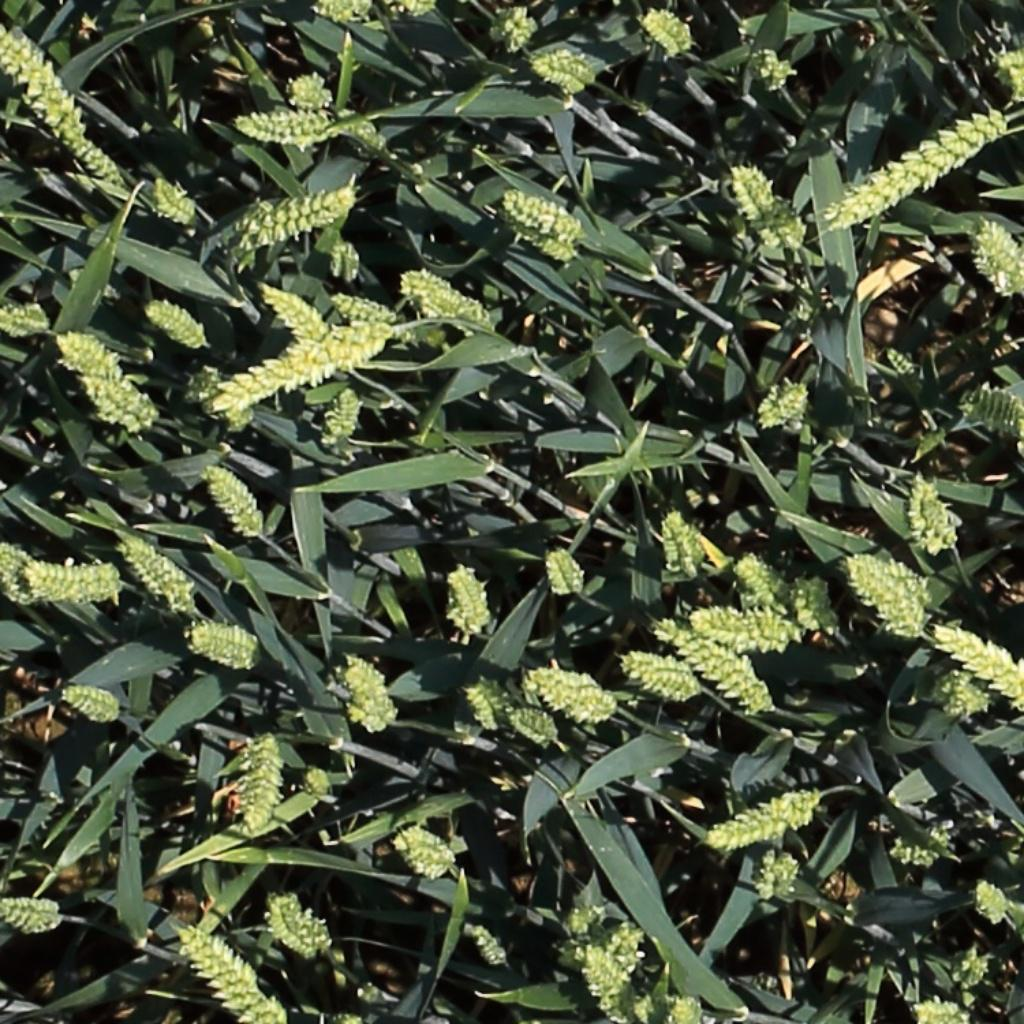0-0: (0, 17, 121, 188), (830, 111, 1009, 223), (174, 922, 286, 1024), (656, 622, 772, 714), (845, 539, 935, 630), (11, 20, 92, 119), (935, 628, 1024, 711), (212, 345, 309, 416), (520, 652, 617, 722), (709, 789, 823, 848), (729, 165, 804, 253), (236, 191, 354, 243), (234, 729, 285, 839), (400, 267, 494, 326), (118, 537, 195, 607), (203, 460, 268, 542), (341, 649, 402, 736), (301, 323, 386, 384), (262, 279, 333, 349), (21, 562, 132, 606), (566, 950, 627, 1024), (330, 289, 403, 350), (619, 648, 703, 700), (267, 891, 330, 958), (500, 189, 582, 238), (77, 374, 147, 431), (232, 114, 349, 148), (503, 207, 577, 260), (912, 472, 958, 557), (972, 217, 1024, 292), (184, 619, 258, 669), (734, 551, 793, 613), (55, 331, 124, 383), (447, 561, 490, 640), (797, 564, 844, 636), (693, 614, 801, 645), (667, 505, 709, 582), (144, 299, 207, 348), (561, 898, 611, 958), (460, 678, 506, 738), (759, 379, 813, 430), (965, 390, 1022, 438), (323, 380, 360, 453), (394, 832, 456, 875), (148, 173, 199, 225), (464, 920, 513, 973), (546, 542, 589, 602), (640, 9, 693, 54), (0, 544, 36, 608), (61, 683, 120, 720), (289, 79, 336, 124), (601, 923, 645, 970), (972, 876, 1011, 929), (753, 42, 791, 96), (499, 5, 537, 58), (951, 944, 989, 993), (774, 850, 804, 910), (509, 711, 562, 744), (330, 230, 360, 288), (757, 845, 782, 913), (533, 57, 595, 84), (884, 339, 922, 380), (300, 763, 335, 806), (997, 51, 1024, 105), (0, 901, 60, 924), (668, 988, 703, 1024), (0, 308, 50, 333), (888, 845, 940, 866), (914, 1004, 966, 1022), (318, 1, 365, 20)
